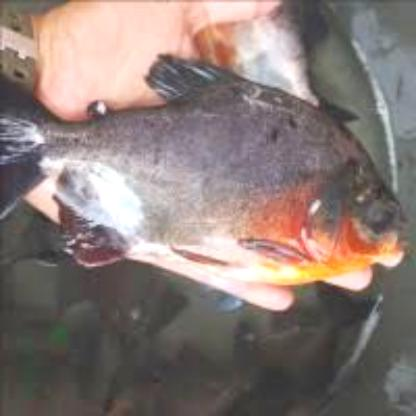ikan-pacu: (2, 77, 404, 269)
